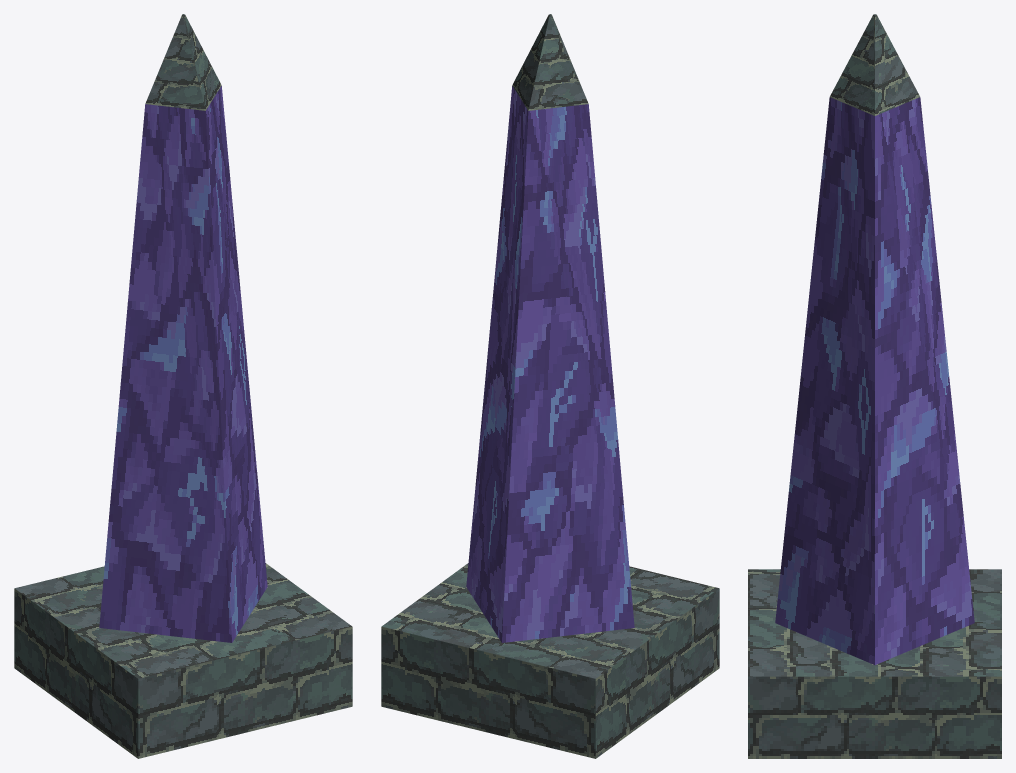
Rendered from ruin_monolith.glb.
The picture shows the model from 3 angles, left to right: view 1: azimuth 30°, elevation 25°; view 2: azimuth 150°, elevation 25°; view 3: azimuth 270°, elevation 25°; orthographic projection. The views are drawn at different scales.
Visible parts, largest first — view 1: Pedestal; view 2: Pedestal; view 3: Pedestal.
Part boxes in pixels (x1,y1,x2,y2): Pedestal: (14,14,352,758); Pedestal: (381,14,719,758); Pedestal: (748,14,1001,758).
Size of the model in its own units: 1.4 by 4.2 by 1.4.
2 materials, 2 textured.
